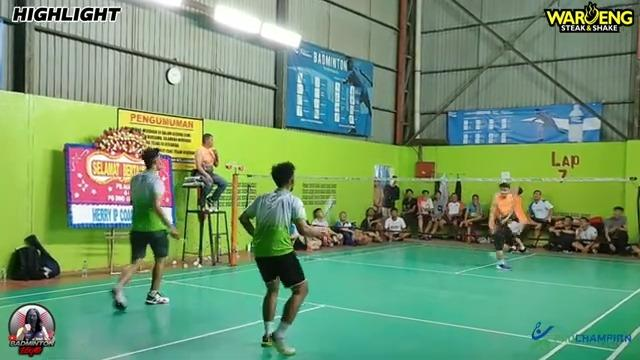Shuttlecock: (322, 193, 334, 211)
